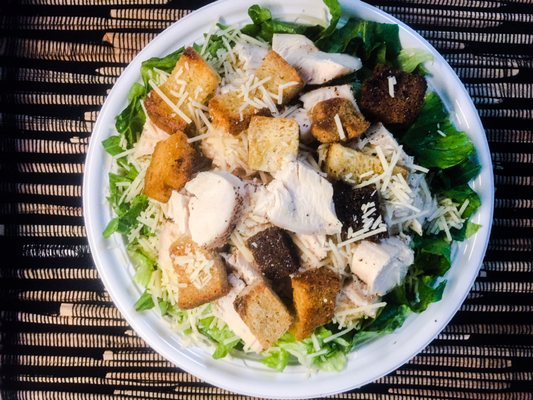sushi: (82, 3, 524, 395)
